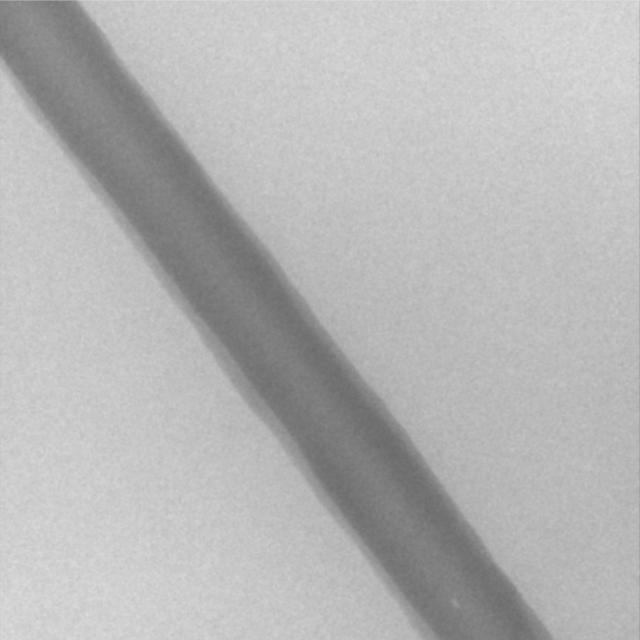air hole: (450, 598, 459, 609)
